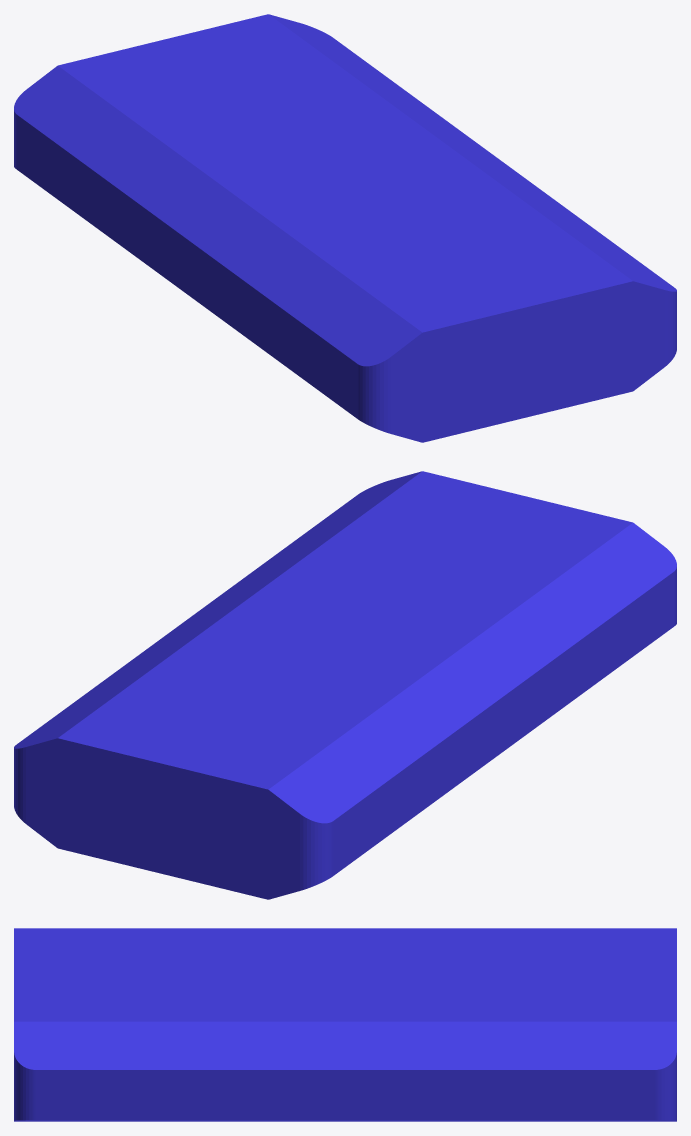
Rendered from body_rev04.dae.
3 renders of one model, top to bottom at view 1: azimuth 30°, elevation 25°; view 2: azimuth 150°, elevation 25°; view 3: azimuth 270°, elevation 25°, orthographic. The views are drawn at different scales.
Visible parts, largest first — view 1: node; view 2: node; view 3: node.
Part boxes in pixels (x1,y1,x2,y2): node: (14, 14, 676, 442); node: (14, 471, 676, 899); node: (14, 928, 676, 1121).
Size of the model in its own units: 300 by 600 by 100.
